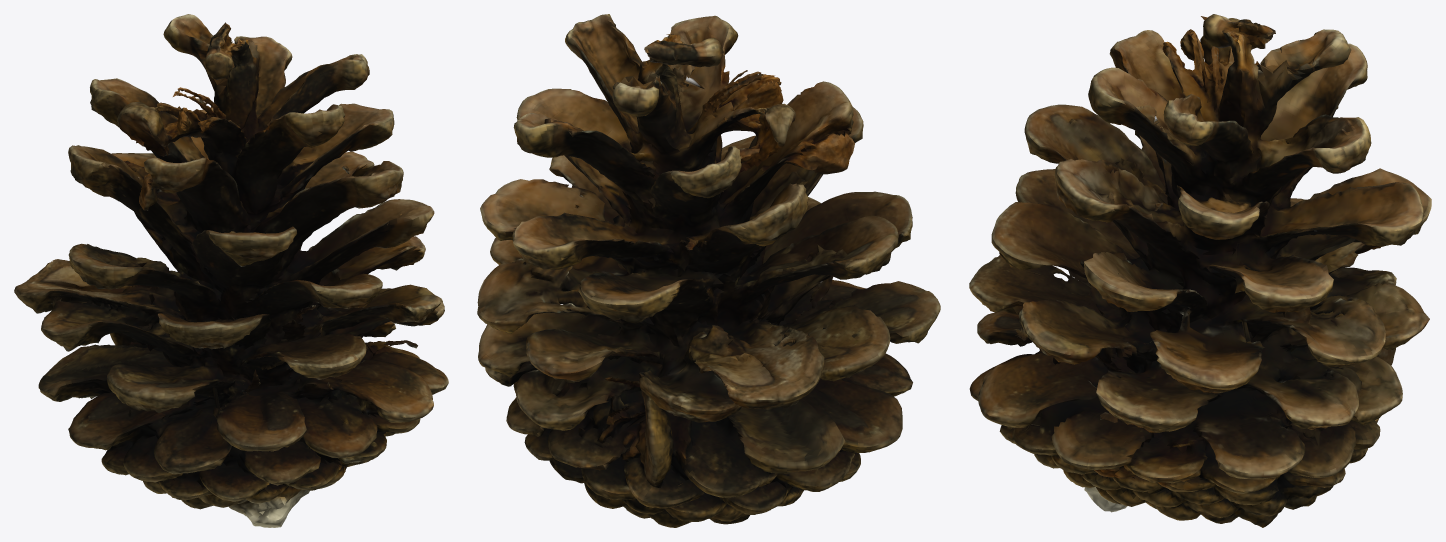
Rendered from conifer_cone.glb.
3 views of the same model, side by side, from view 1: azimuth 30°, elevation 25°; view 2: azimuth 150°, elevation 25°; view 3: azimuth 270°, elevation 25° (orthographic). The views are drawn at different scales.
Visible parts, largest first — view 1: Object_3, Object_4, Object_2, Object_5; view 2: Object_4, Object_2, Object_3, Object_5; view 3: Object_2, Object_4, Object_3, Object_5.
Part boxes in pixels (x1,y1,x2,y2): Object_3: (26,54,430,527); Object_4: (18,14,431,527); Object_2: (14,33,448,492); Object_5: (68,145,441,379); Object_4: (480,15,912,522); Object_2: (477,34,909,517); Object_3: (478,14,940,527); Object_5: (549,107,863,422); Object_2: (969,17,1429,503); Object_4: (977,14,1423,520); Object_3: (969,61,1431,527); Object_5: (989,104,1396,364).
Size of the model in its own units: 1.47 by 1.71 by 1.44.
1 material, 1 textured.
